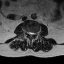CCS_normal: (30, 29, 32, 39)
LFS_normal: (34, 30, 36, 36)
LLS_normal: (32, 30, 34, 37)
RFS_normal: (26, 28, 28, 36)
RLS_normal: (28, 29, 30, 37)
